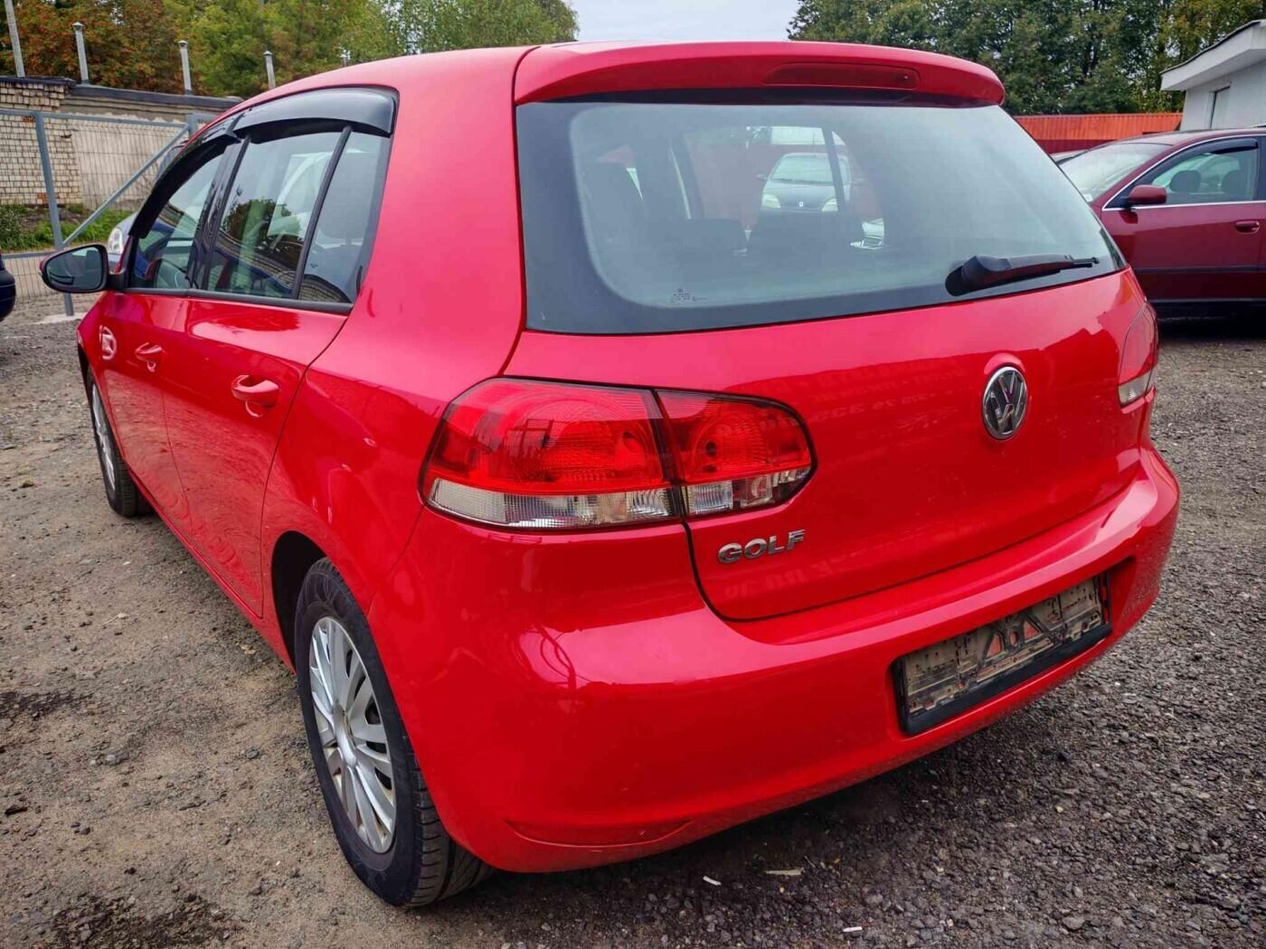Golf_2008-2013: (43, 38, 1186, 901)
